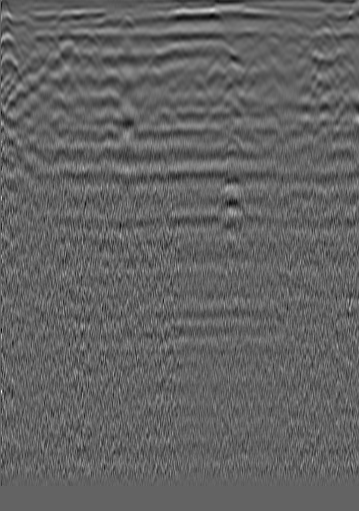가스: (209, 174, 252, 218)
상수: (307, 18, 340, 49)
오수: (25, 30, 63, 52)
우수: (174, 24, 194, 44)
